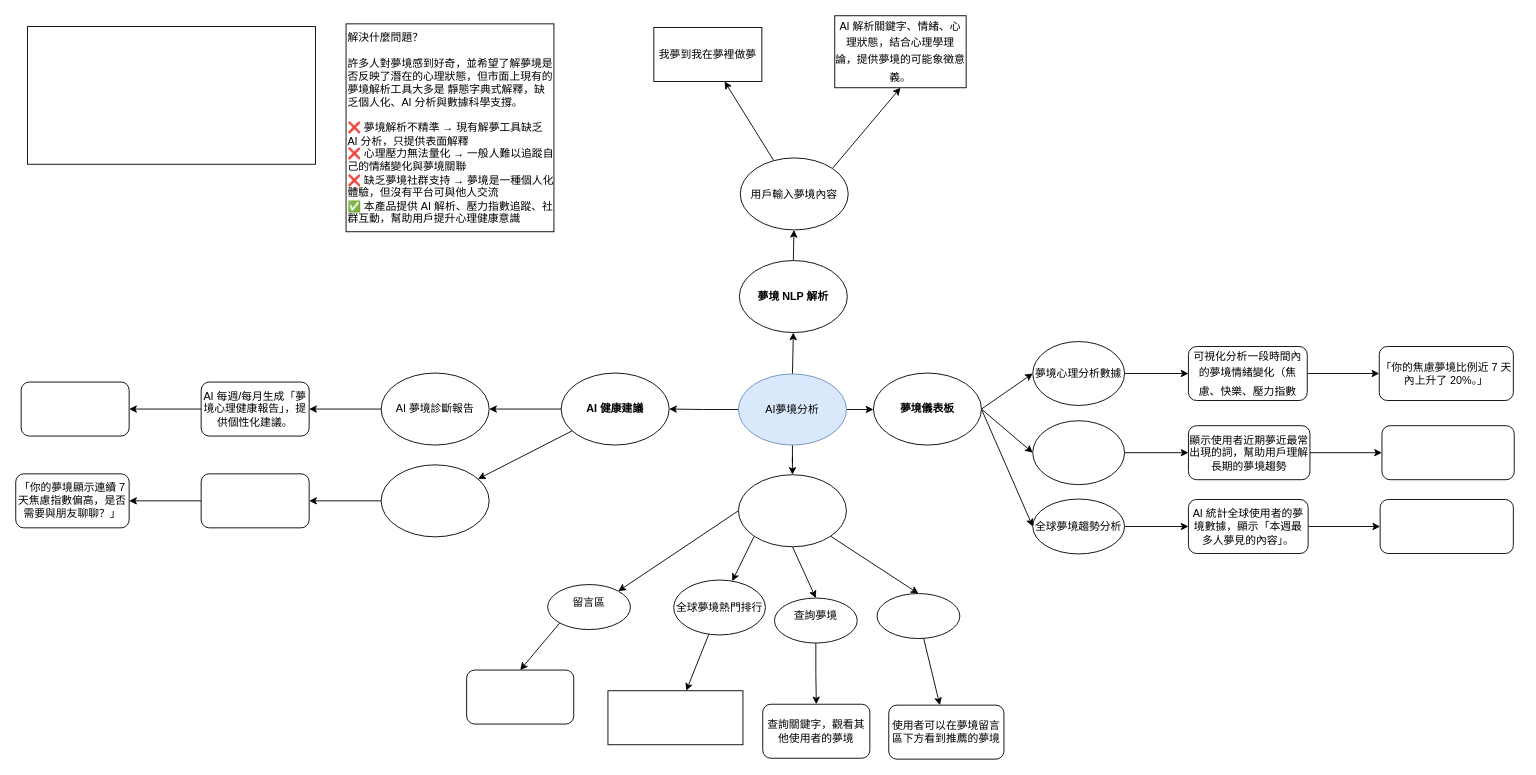
Some shapes in this 1536 by 775 pixel diagram are drawn without their labels. The shapes that lost their labels are listed below. From the top down, each one's centre as x and y in pixels, then its label:
At [171,95]: "主要的使用對象 一般使用者 → 想了解夢境與心理健康關聯的人 心理學愛好者 → 對夢境研究感興趣的人 心理學專家 & 研究機構 → 可用於夢境與心理健康數據研究".
At [74,408]: "「你的夢境顯示壓力增加，建議嘗試『冥想+早睡』策略。」".
At [1078,452]: "個人關鍵字雲圖".
At [1447,452]: "『鬼』這個關鍵字出現5次".
At [254,500]: "當 AI 偵測到用戶夢境情緒異常時，可提醒用戶尋求支持".
At [434,500]: "AI 夢境情緒警報".
At [792,510]: "夢境社群討論區".
At [1446,526]: "「最近 40% 的用戶夢到『迷路』，這可能與焦慮感增加有關。」".
At [918,616]: "推薦夢境".
At [520,696]: "使用者可以在留言區中進行留言討論".
At [675,717]: "顯示近期熱門的關鍵字查詢".
